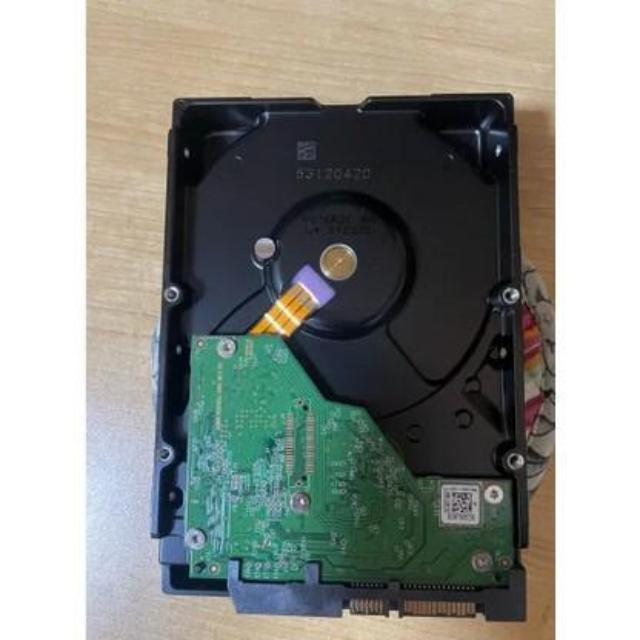DISK: (159, 114, 527, 626)
